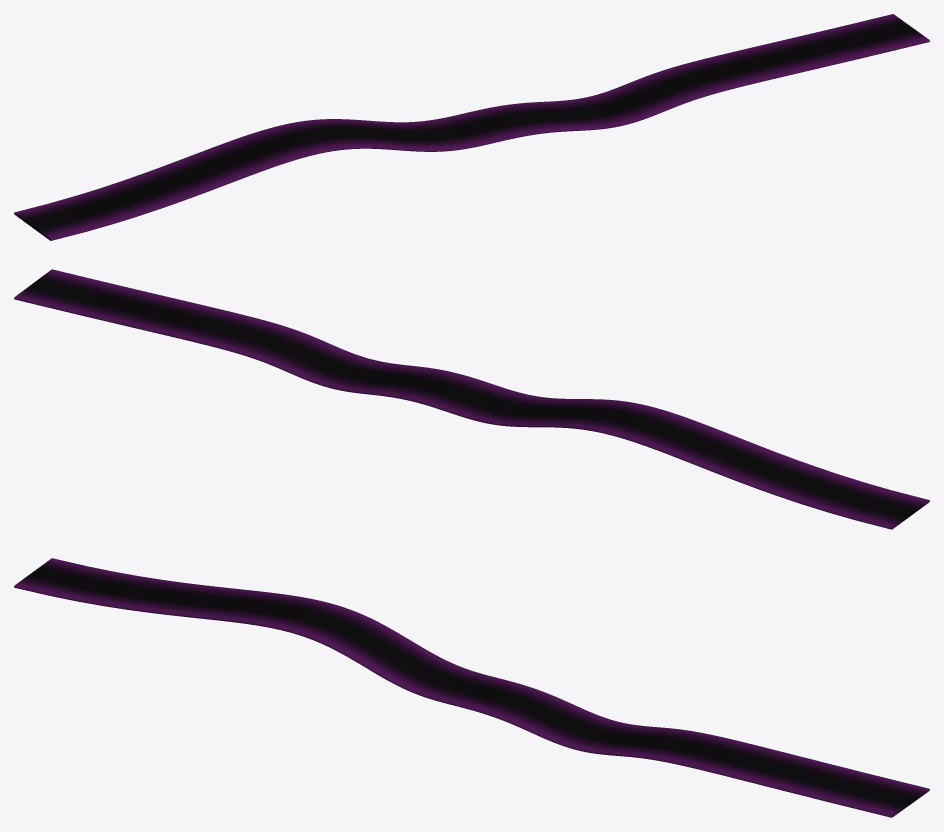
File: level-02-track-15.glb
3 renders of one model, top to bottom at view 1: azimuth 30°, elevation 25°; view 2: azimuth 150°, elevation 25°; view 3: azimuth 330°, elevation 25°, orthographic. The views are drawn at different scales.
Parts seen in each view (by area): view 1: track-15; view 2: track-15; view 3: track-15.
Boxes of the visible parts, x1,y1,x2,y2 form: track-15: (14, 14, 929, 240); track-15: (14, 269, 929, 529); track-15: (14, 558, 929, 817).
Bounding box in the file's own units: 147 × 5.85 × 15.83.
2 materials, 2 textured.
